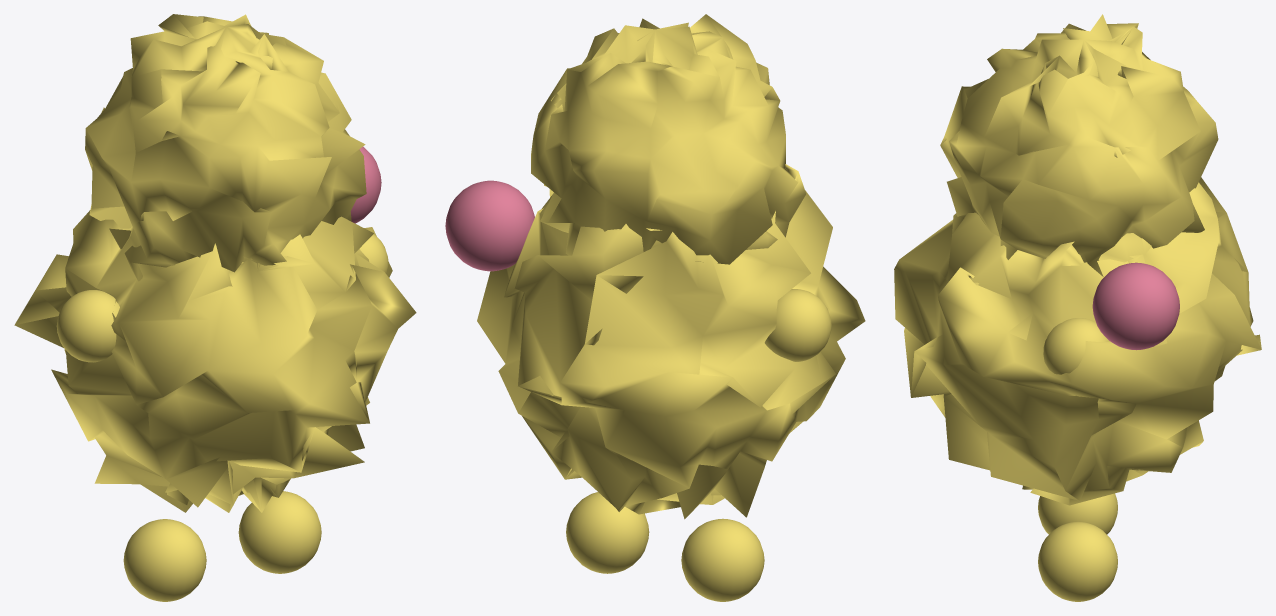
The model's file is clay_banana_trickster.glb.
The picture shows the model from 3 angles, left to right: view 1: azimuth 30°, elevation 25°; view 2: azimuth 150°, elevation 25°; view 3: azimuth 270°, elevation 25°; orthographic projection. The views are drawn at different scales.
Parts seen in each view (by area): view 1: ball; view 2: ball; view 3: ball.
Part boxes in pixels (x1,y1,x2,y2): ball: (14, 14, 416, 601); ball: (445, 14, 865, 601); ball: (894, 14, 1261, 601).
Bounding box in the file's own units: 1.32 × 2.03 × 1.26.
